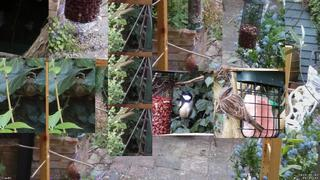great tit: (168, 91, 194, 123)
sparrow: (219, 86, 265, 133)
